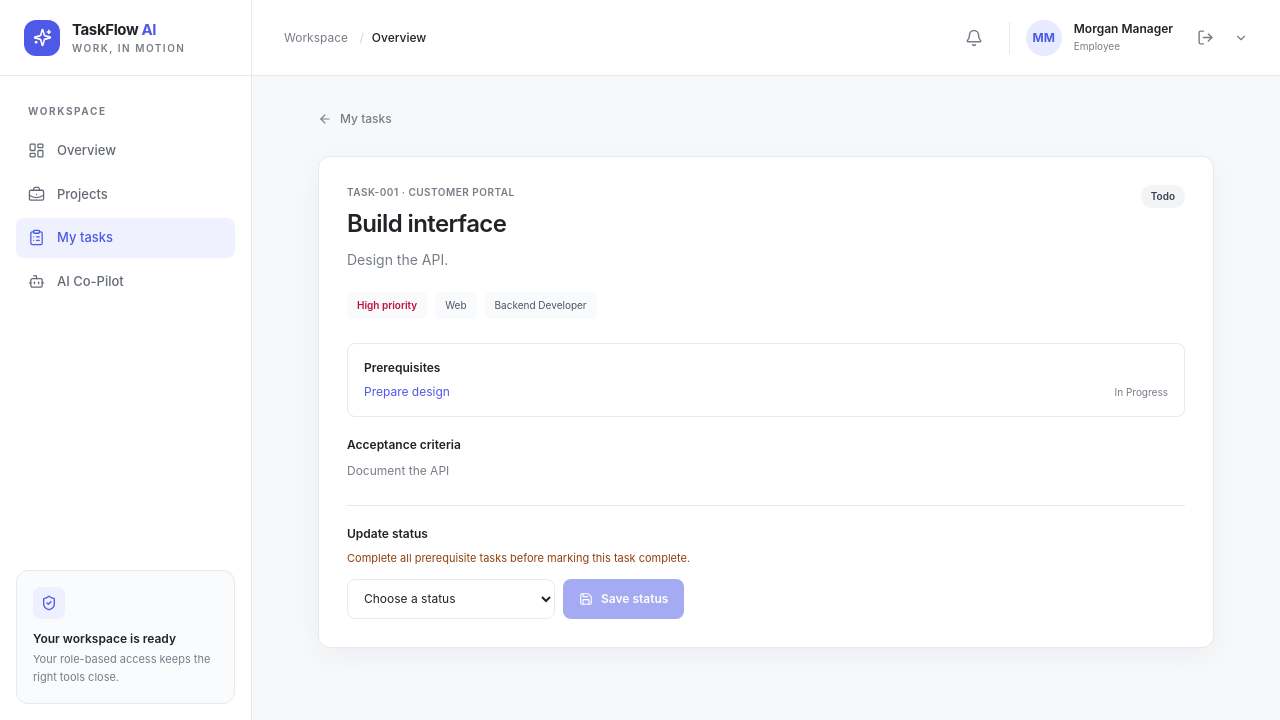
Test: manager dashboard flows › blocks completion until prerequisites are done and updates valid status
This screenshot has width=1280, height=720.
Check: the heading "Build interface" is shown, box [347,208,515,240]
Select "In Progress" in the dropdown named "New task status" at (451, 598), box [347,578,555,618]
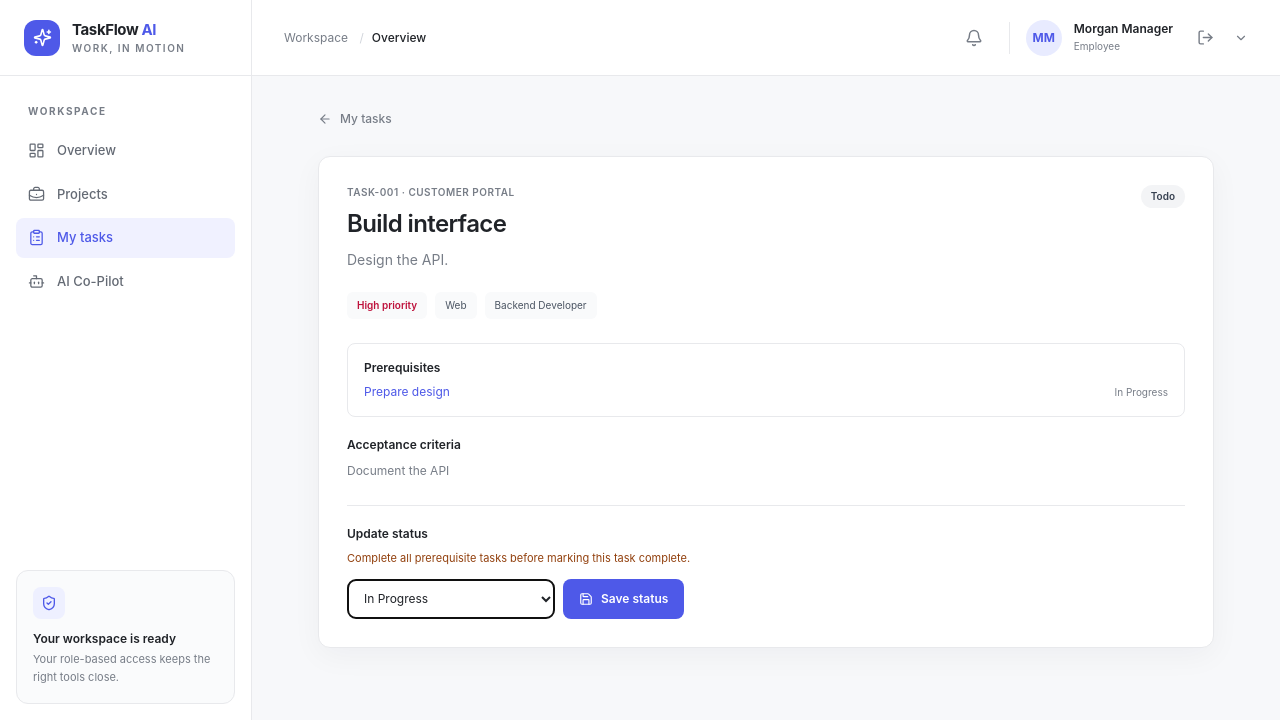
Click the button "Save status" at (624, 598), box [563,578,684,618]
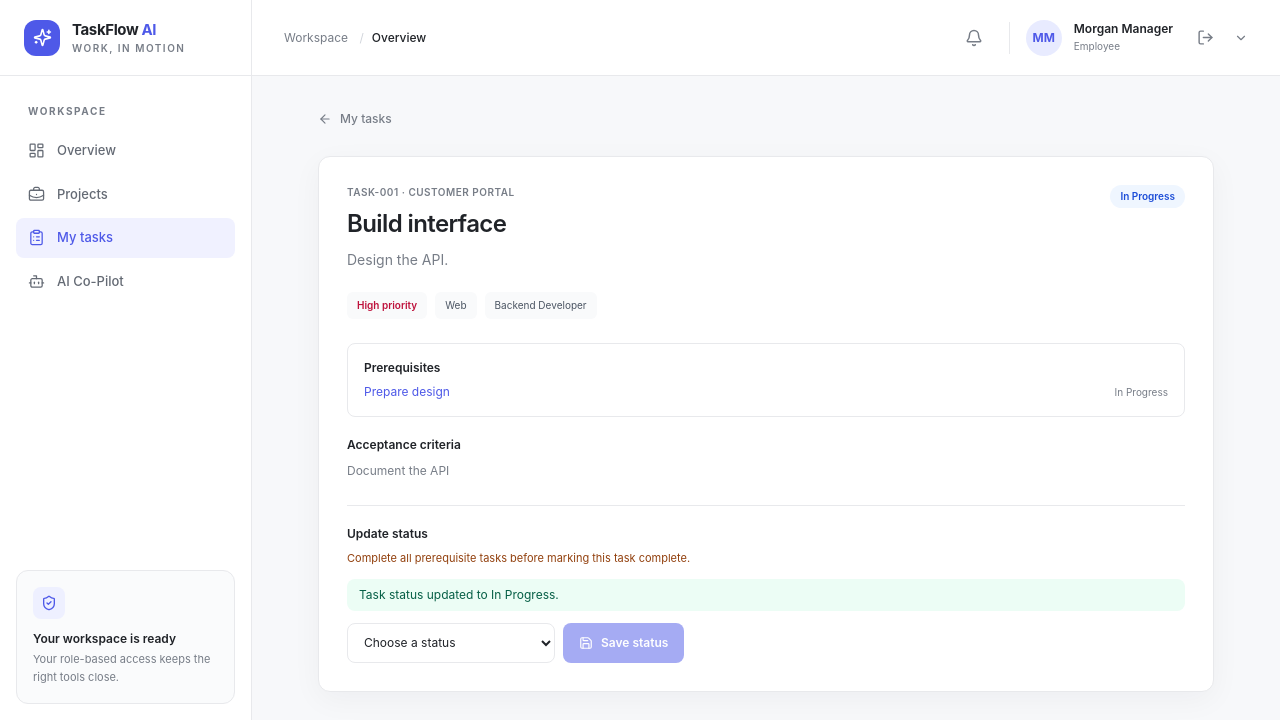
Check: the text "Task status updated to In Progress." is shown, box [347,578,1185,610]
